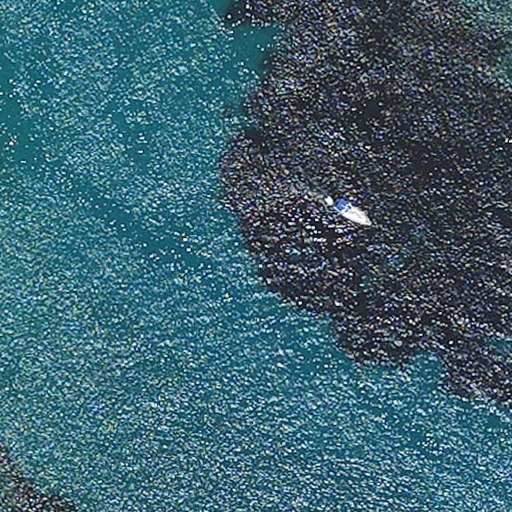ship: (333, 198, 374, 229)
